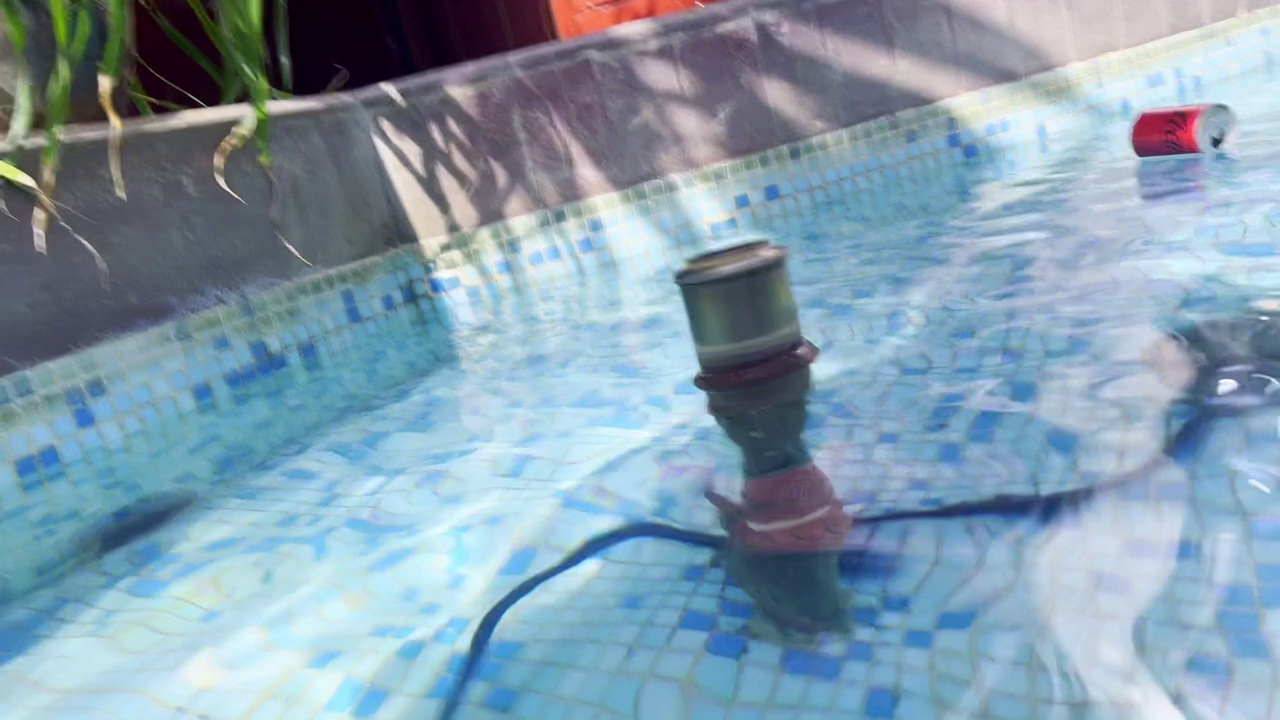debris: (1122, 100, 1245, 162)
